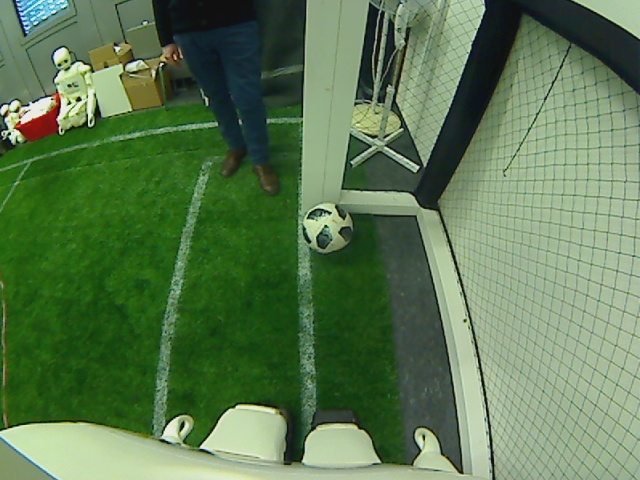ball: (303, 200, 354, 253)
